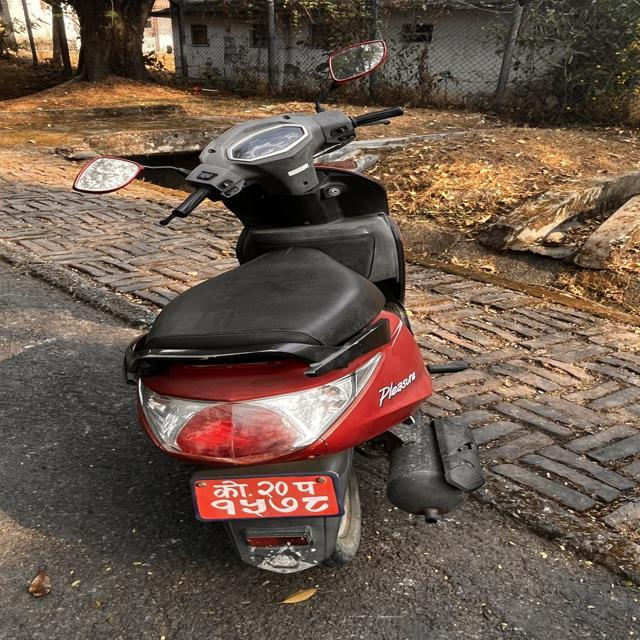license_plate: (190, 444, 346, 552)
